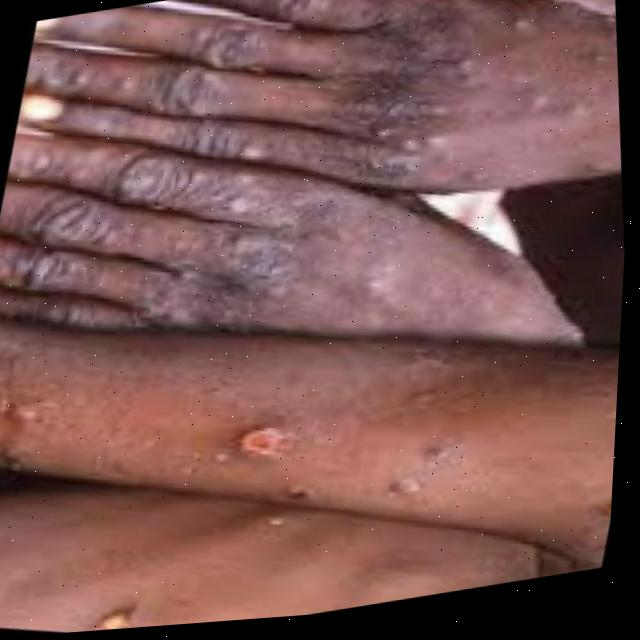Eczema: (8, 0, 635, 317), (224, 428, 296, 467)
